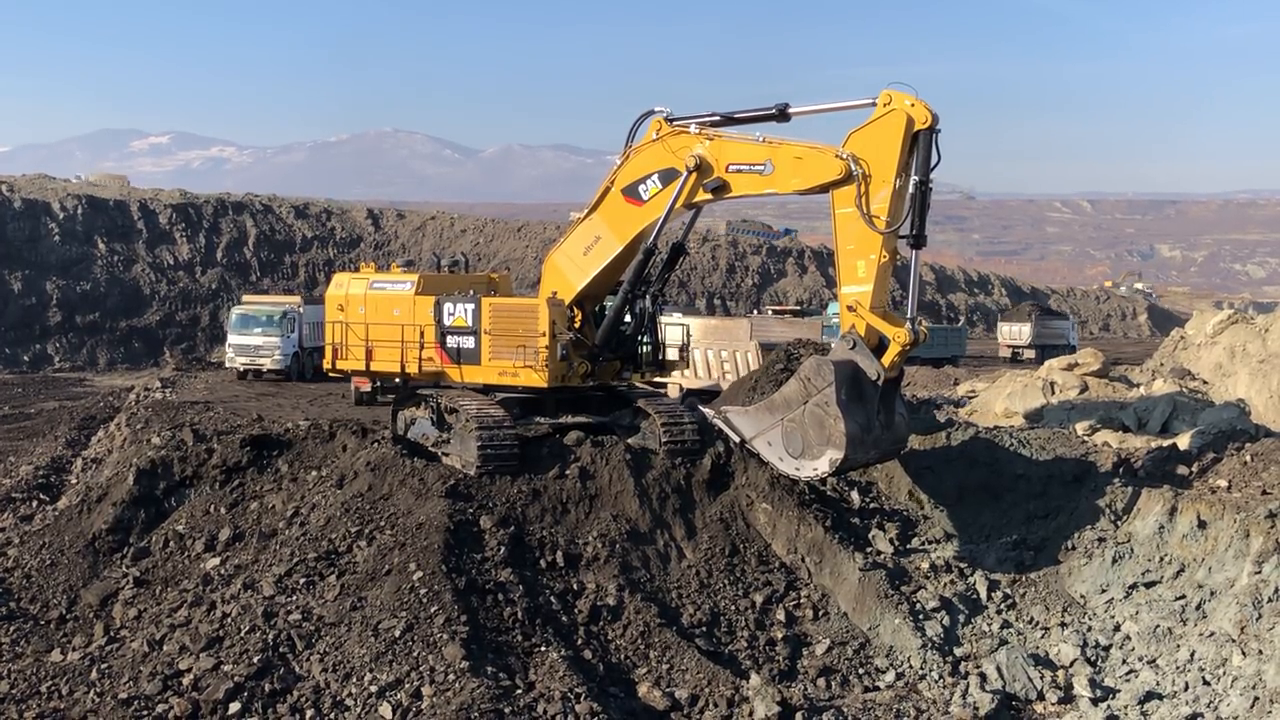full: (692, 324, 915, 482)
